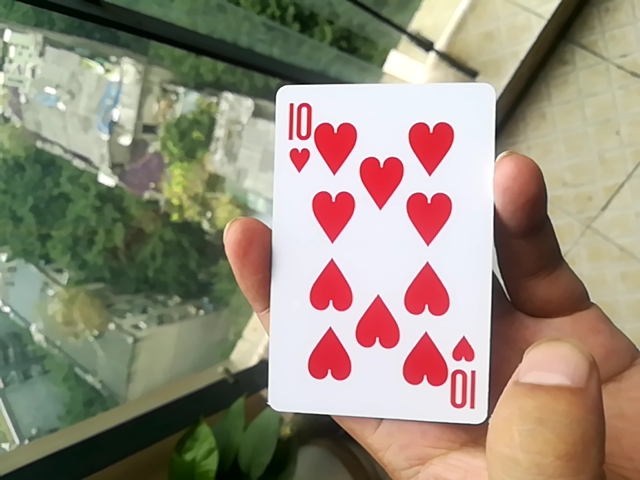hx 10: (268, 84, 496, 438)
